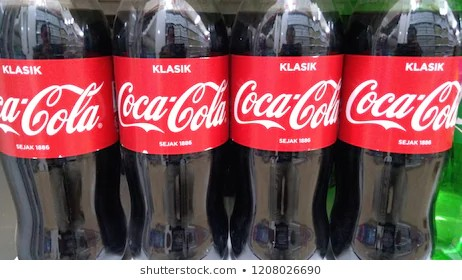coke-bottle-2l: (342, 2, 460, 263), (117, 1, 233, 260), (1, 3, 115, 258), (230, 3, 343, 252)
